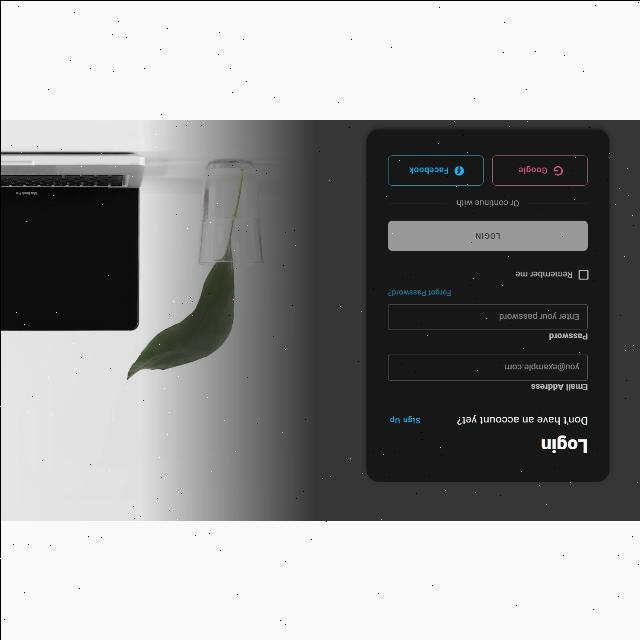QLabel: (456, 414, 586, 426), (540, 434, 586, 454), (387, 286, 451, 298), (514, 270, 572, 278), (529, 383, 587, 391), (453, 200, 519, 207), (546, 332, 588, 340), (408, 166, 448, 174), (390, 416, 420, 424), (518, 166, 546, 174), (472, 232, 500, 240)
VBtn: (387, 220, 587, 252), (490, 154, 588, 186), (386, 154, 484, 186)
VCard: (364, 126, 610, 484), (0, 137, 284, 381)
VCheckbox: (578, 270, 588, 280)
VDivider: (387, 202, 447, 204), (528, 202, 586, 204)
VTextField: (387, 354, 588, 382), (387, 304, 588, 330)
